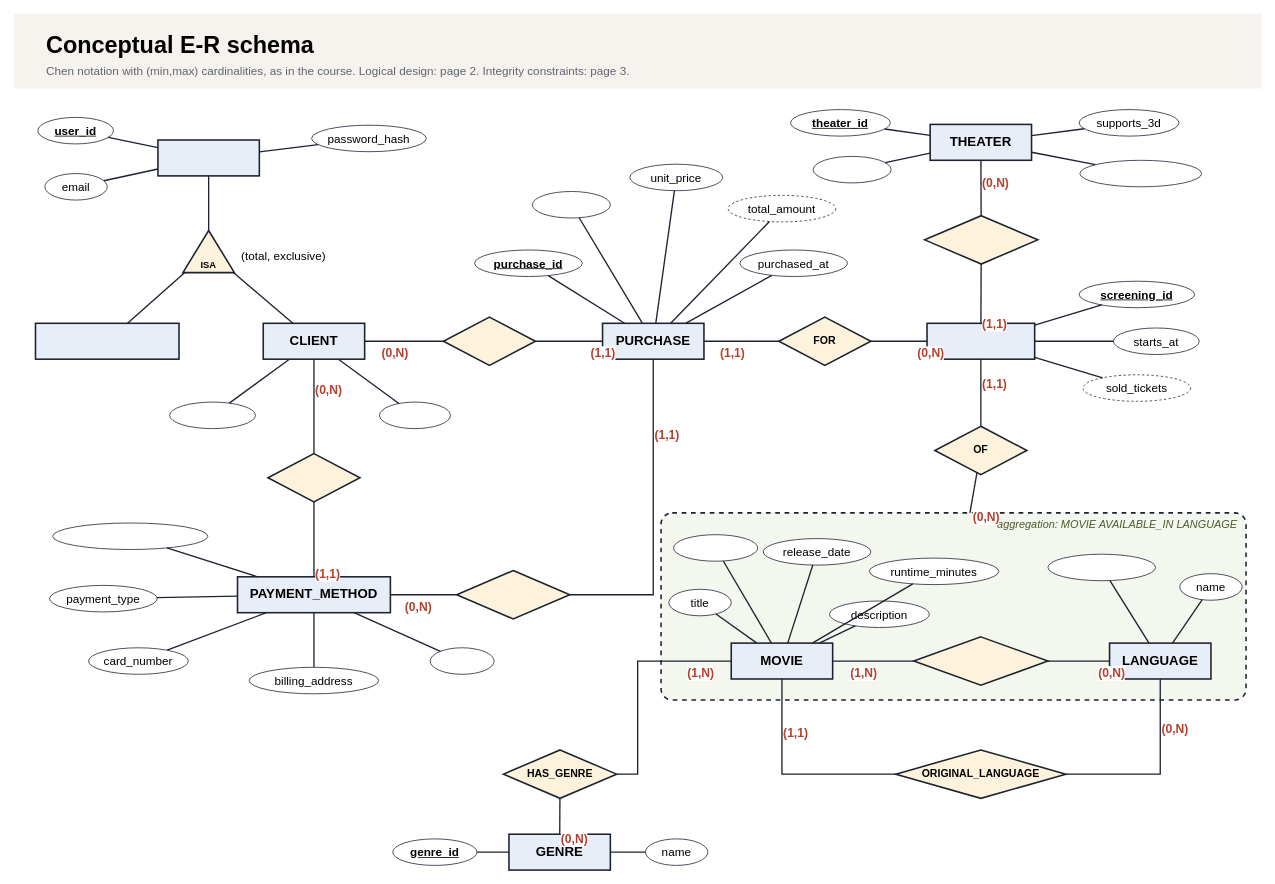
Some shapes in this 1275 by 884 pixel diagram are drawn without their labels. Each missing label, with the centre of its shape:
"active" belongs at (461,660).
"address" belongs at (414,415).
"ADMINISTRATOR" belongs at (106,341).
"AVAILABLE_IN" belongs at (980,661).
"capacity" belongs at (851,169).
"enhanced_sound" belongs at (1140,173).
"full_name" belongs at (212,415).
"HOSTED_IN" belongs at (981,239).
"language_id" belongs at (1101,567).
"MAKES" belongs at (489,341).
"movie_id" belongs at (715,547).
"OWNS" belongs at (313,477).
"PAID_WITH" belongs at (513,594).
"payment_method_id" belongs at (130,536).
"quantity" belongs at (571,204).
"SCREENING" belongs at (980,341).
"USER" belongs at (208,157).
